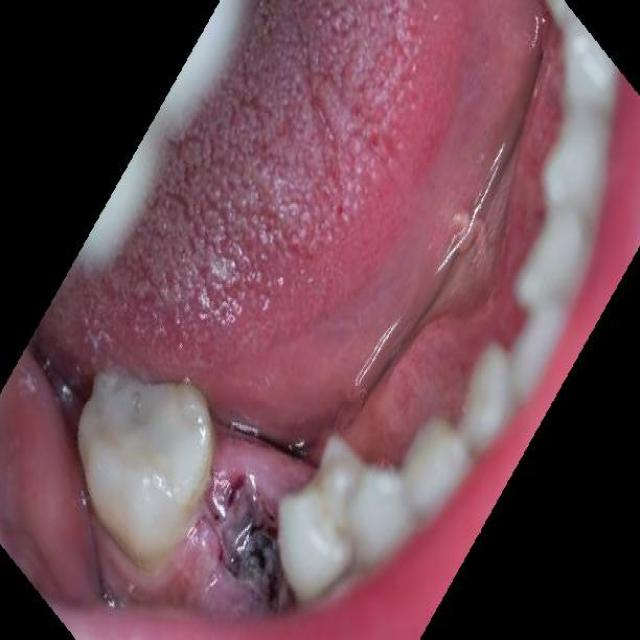caries: (205, 480, 308, 623)
